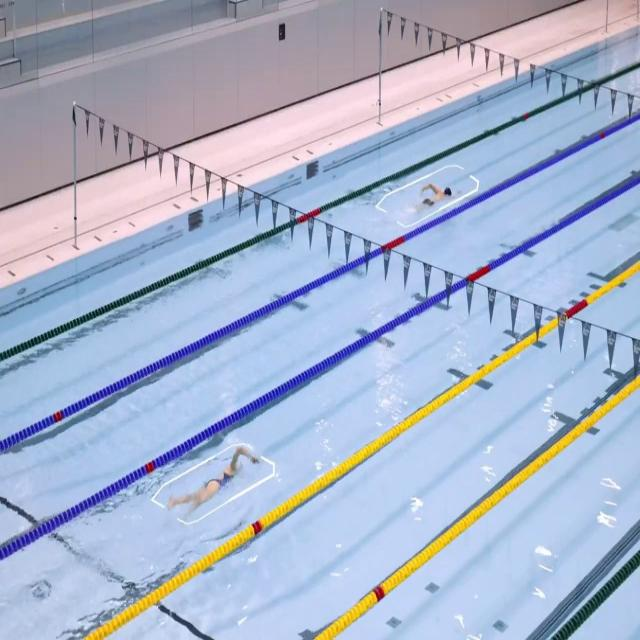Swimming: (168, 445, 261, 521), (408, 182, 464, 216)
